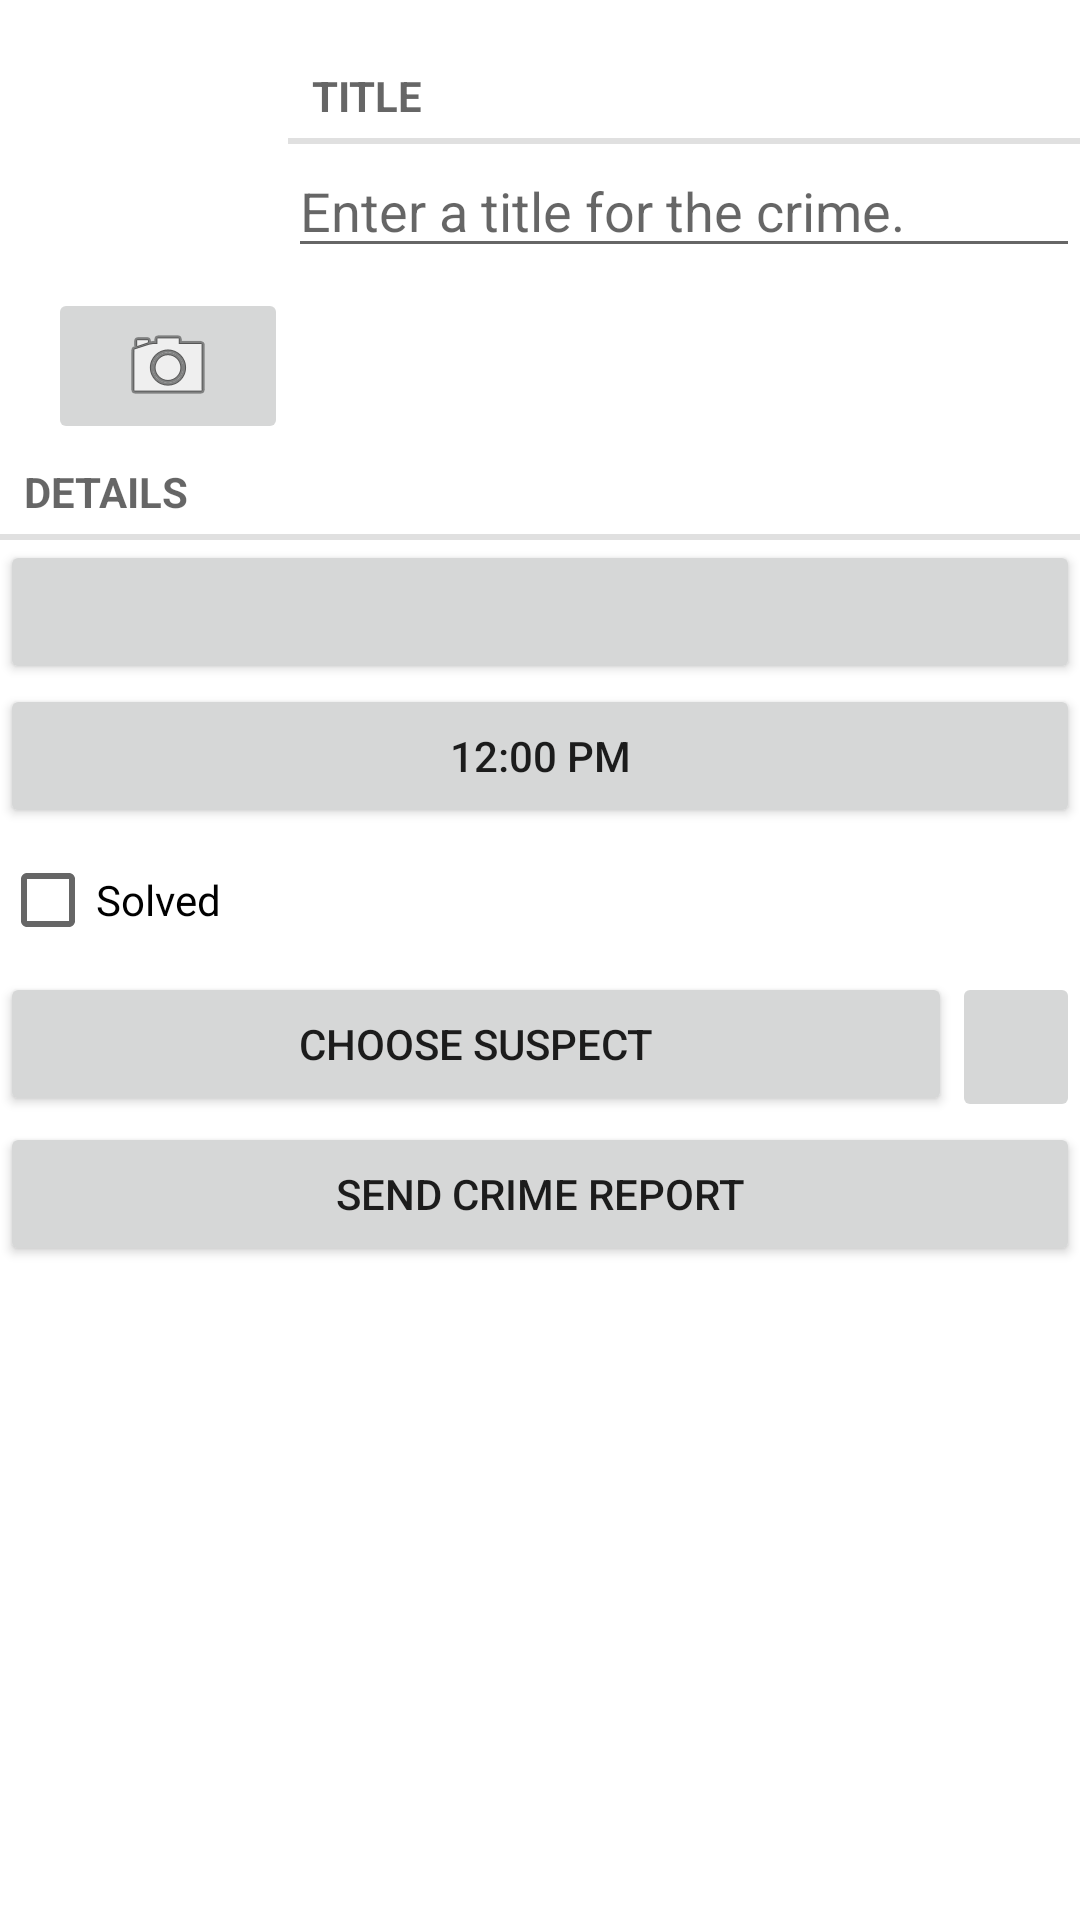

Screen size 1080×1920. Icon name, then its box in pixels as bbox(x1, y1, x2, y2):
camera: bbox(60, 306, 276, 426)
